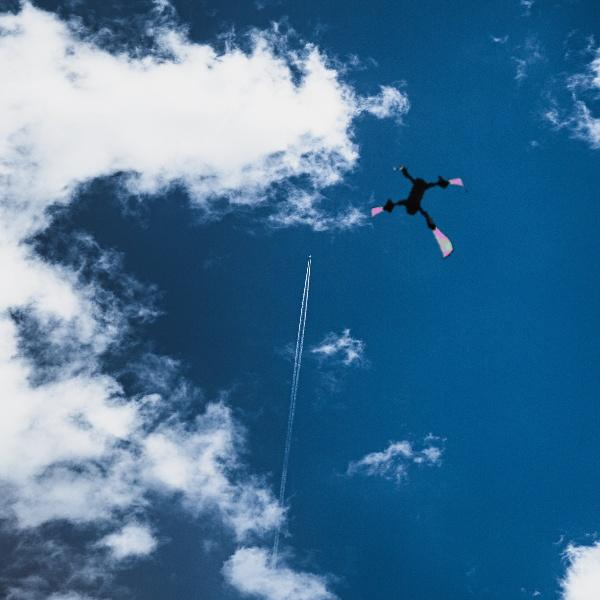drone: (366, 156, 479, 269)
